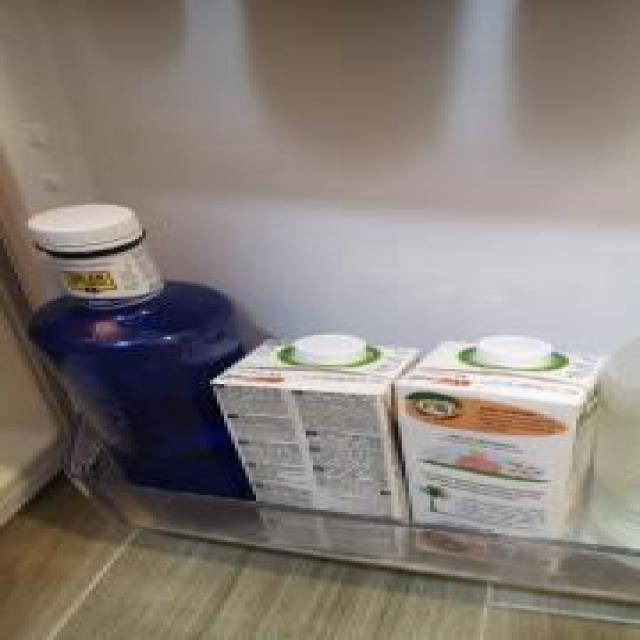milk: (382, 335, 628, 584), (201, 334, 432, 562)
